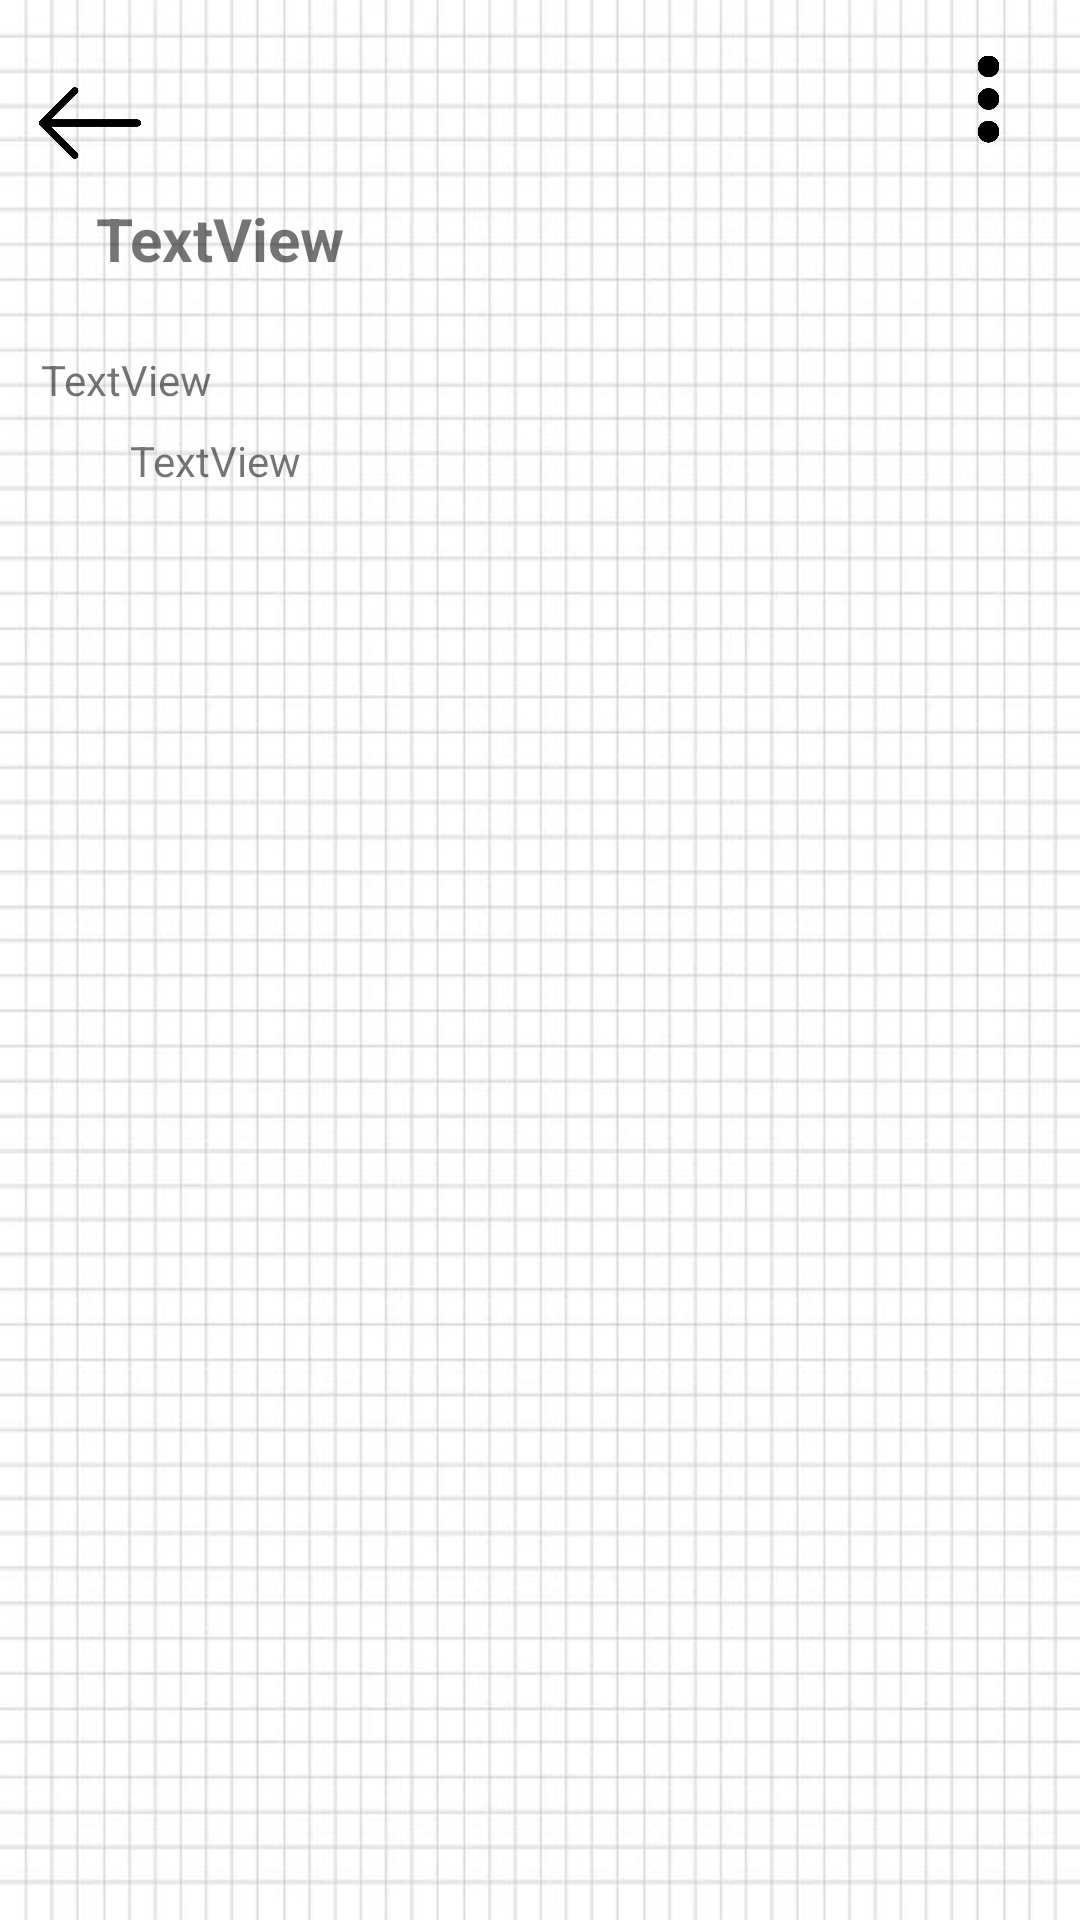

Where icons sit on this 1080px x 1920px app screen, as (x1, y1, x2, y2):
left arrow: (29, 74, 152, 174)
more: (945, 48, 1032, 150)
